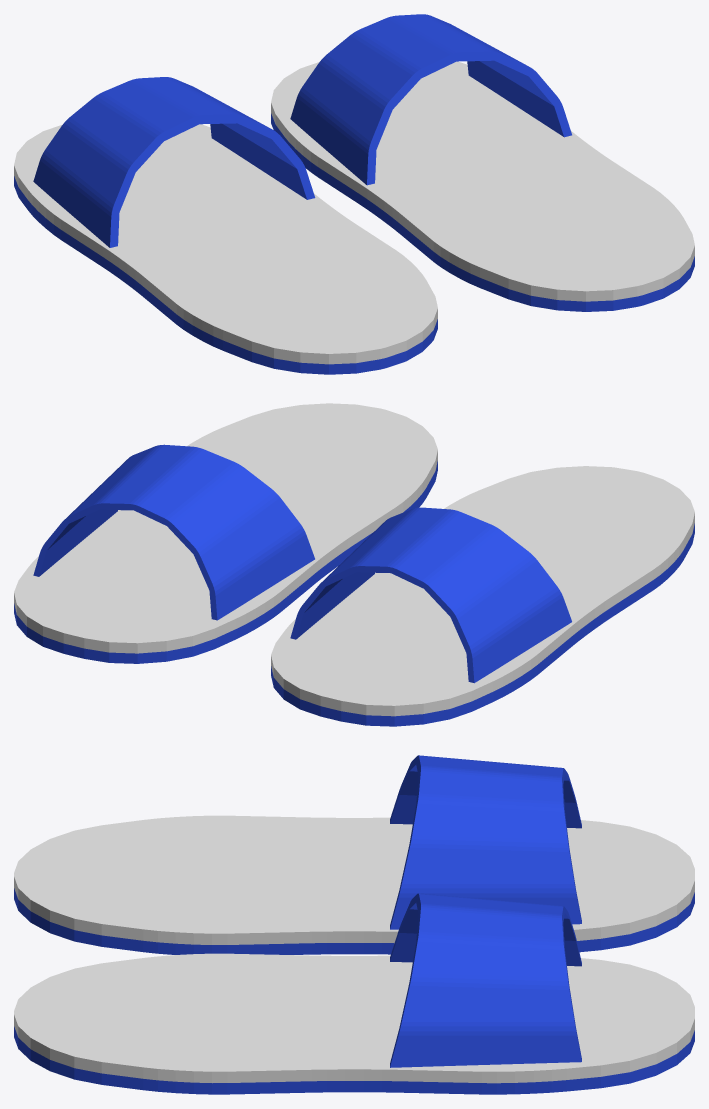
The model's file is bws.fbx.
3 renders of one model, top to bottom at view 1: azimuth 30°, elevation 25°; view 2: azimuth 150°, elevation 25°; view 3: azimuth 270°, elevation 25°, orthographic. The views are drawn at different scales.
Visible parts, largest first — view 1: BWS1, BWS2; view 2: BWS1, BWS2; view 3: BWS2, BWS1.
Part boxes in pixels (x1,y1,x2,y2): BWS1: (14,77,437,374); BWS2: (271,14,694,311); BWS1: (271,466,694,726); BWS2: (14,403,437,663); BWS2: (14,893,694,1094); BWS1: (14,755,694,954).
Size of the model in its own units: 24.04 by 5.67 by 27.
